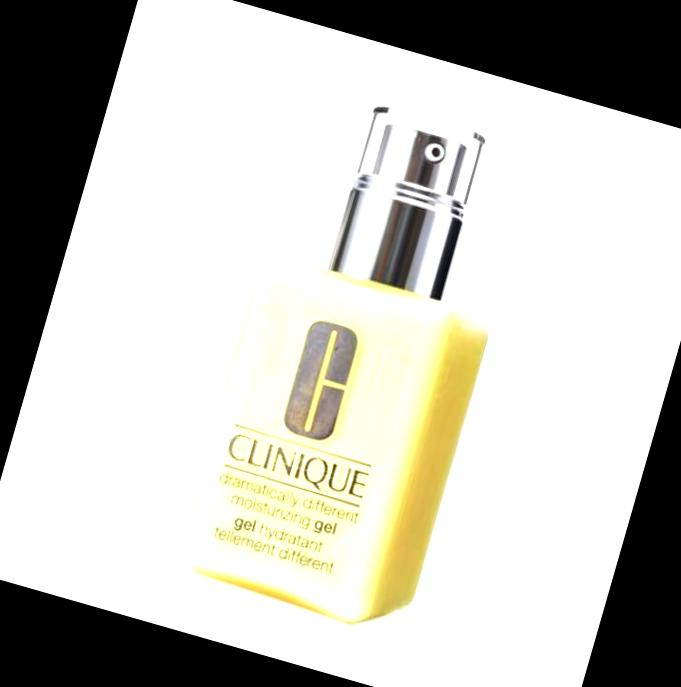cosmetic: (171, 77, 545, 635)
